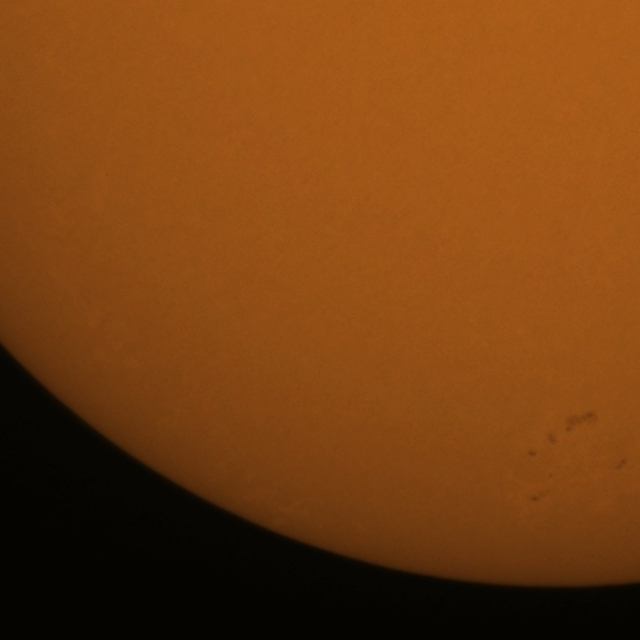sunspot: (564, 410, 598, 434), (615, 458, 628, 471), (546, 433, 558, 446), (526, 448, 538, 458)
